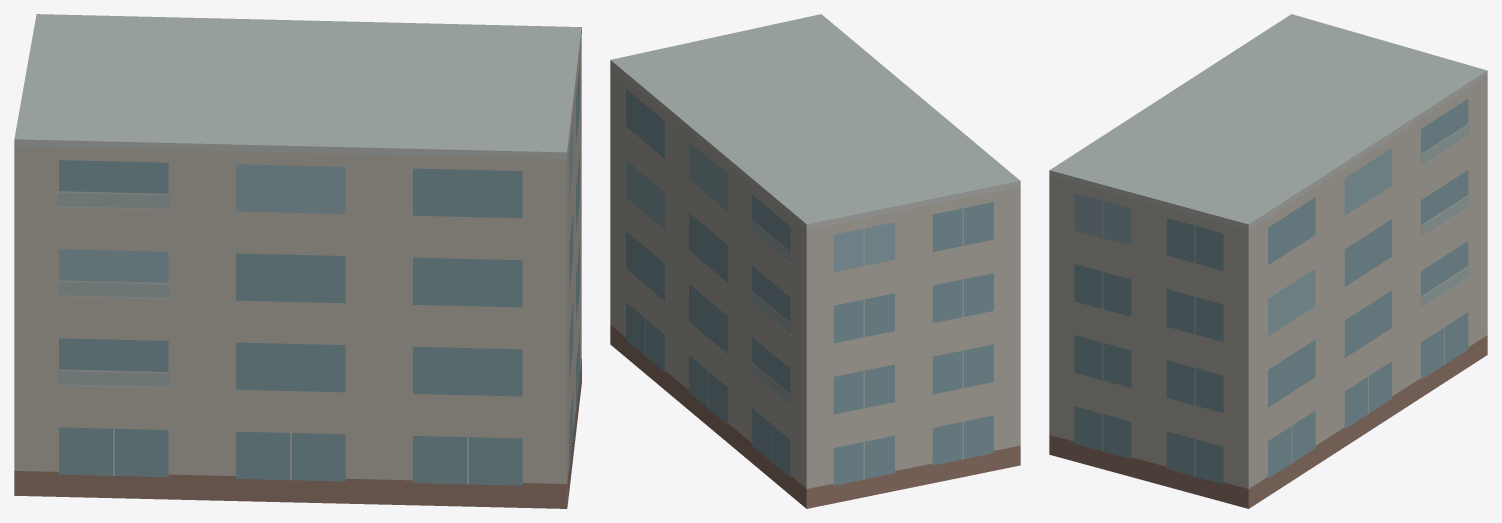
Rendered from survey-upis-32886899.glb.
3 renders of one model, left to right at view 1: azimuth 30°, elevation 25°; view 2: azimuth 150°, elevation 25°; view 3: azimuth 270°, elevation 25°, orthographic. The views are drawn at different scales.
Parts seen in each view (by area): view 1: survey-upis-32886899.tmp; view 2: survey-upis-32886899.tmp; view 3: survey-upis-32886899.tmp.
Boxes of the visible parts, left/top/right/bottom form: survey-upis-32886899.tmp: left=14, top=14, right=581, bottom=508; survey-upis-32886899.tmp: left=610, top=14, right=1020, bottom=508; survey-upis-32886899.tmp: left=1049, top=14, right=1487, bottom=508.
Bounding box in the file's own units: 20 × 12.6 × 17.59.
